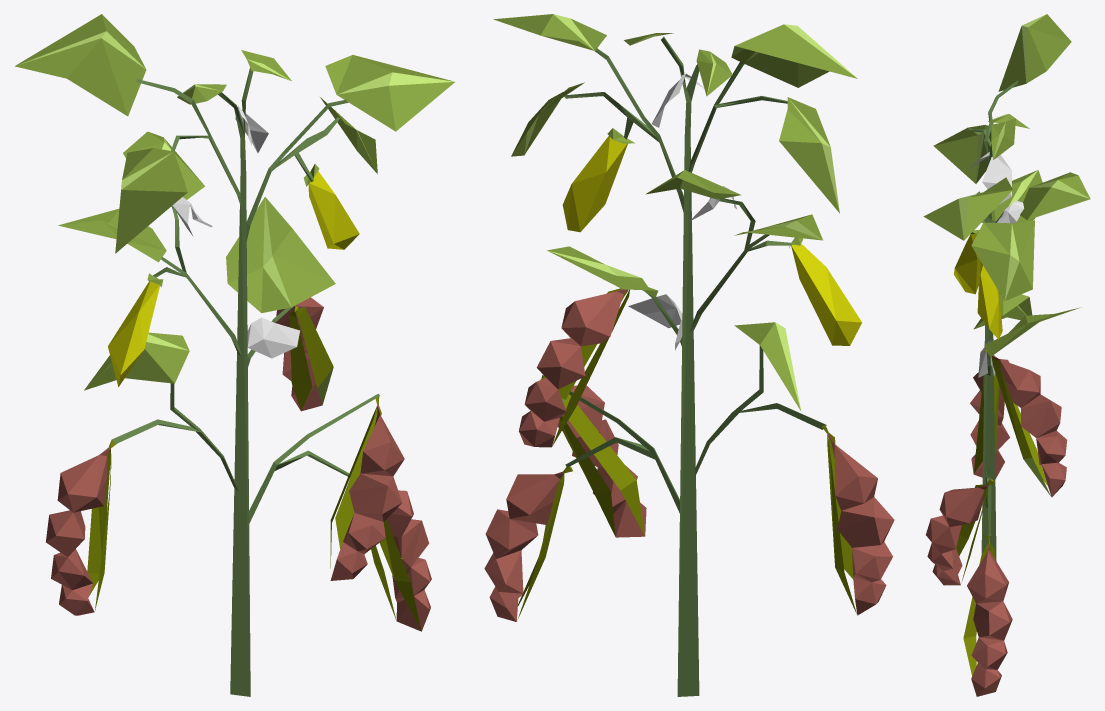
The model's file is Beans_4.fbx.
The picture shows the model from 3 angles, left to right: view 1: azimuth 30°, elevation 25°; view 2: azimuth 150°, elevation 25°; view 3: azimuth 270°, elevation 25°; orthographic projection. The views are drawn at different scales.
Visible parts, largest first — view 1: Beans_5; view 2: Beans_5; view 3: Beans_5.
Boxes of the visible parts, x1,y1,x2,y2 form: Beans_5: (15,14,455,696); Beans_5: (484,14,894,696); Beans_5: (923,14,1090,696).
Bounding box in the file's own units: 59.2 × 97.14 × 25.71.
